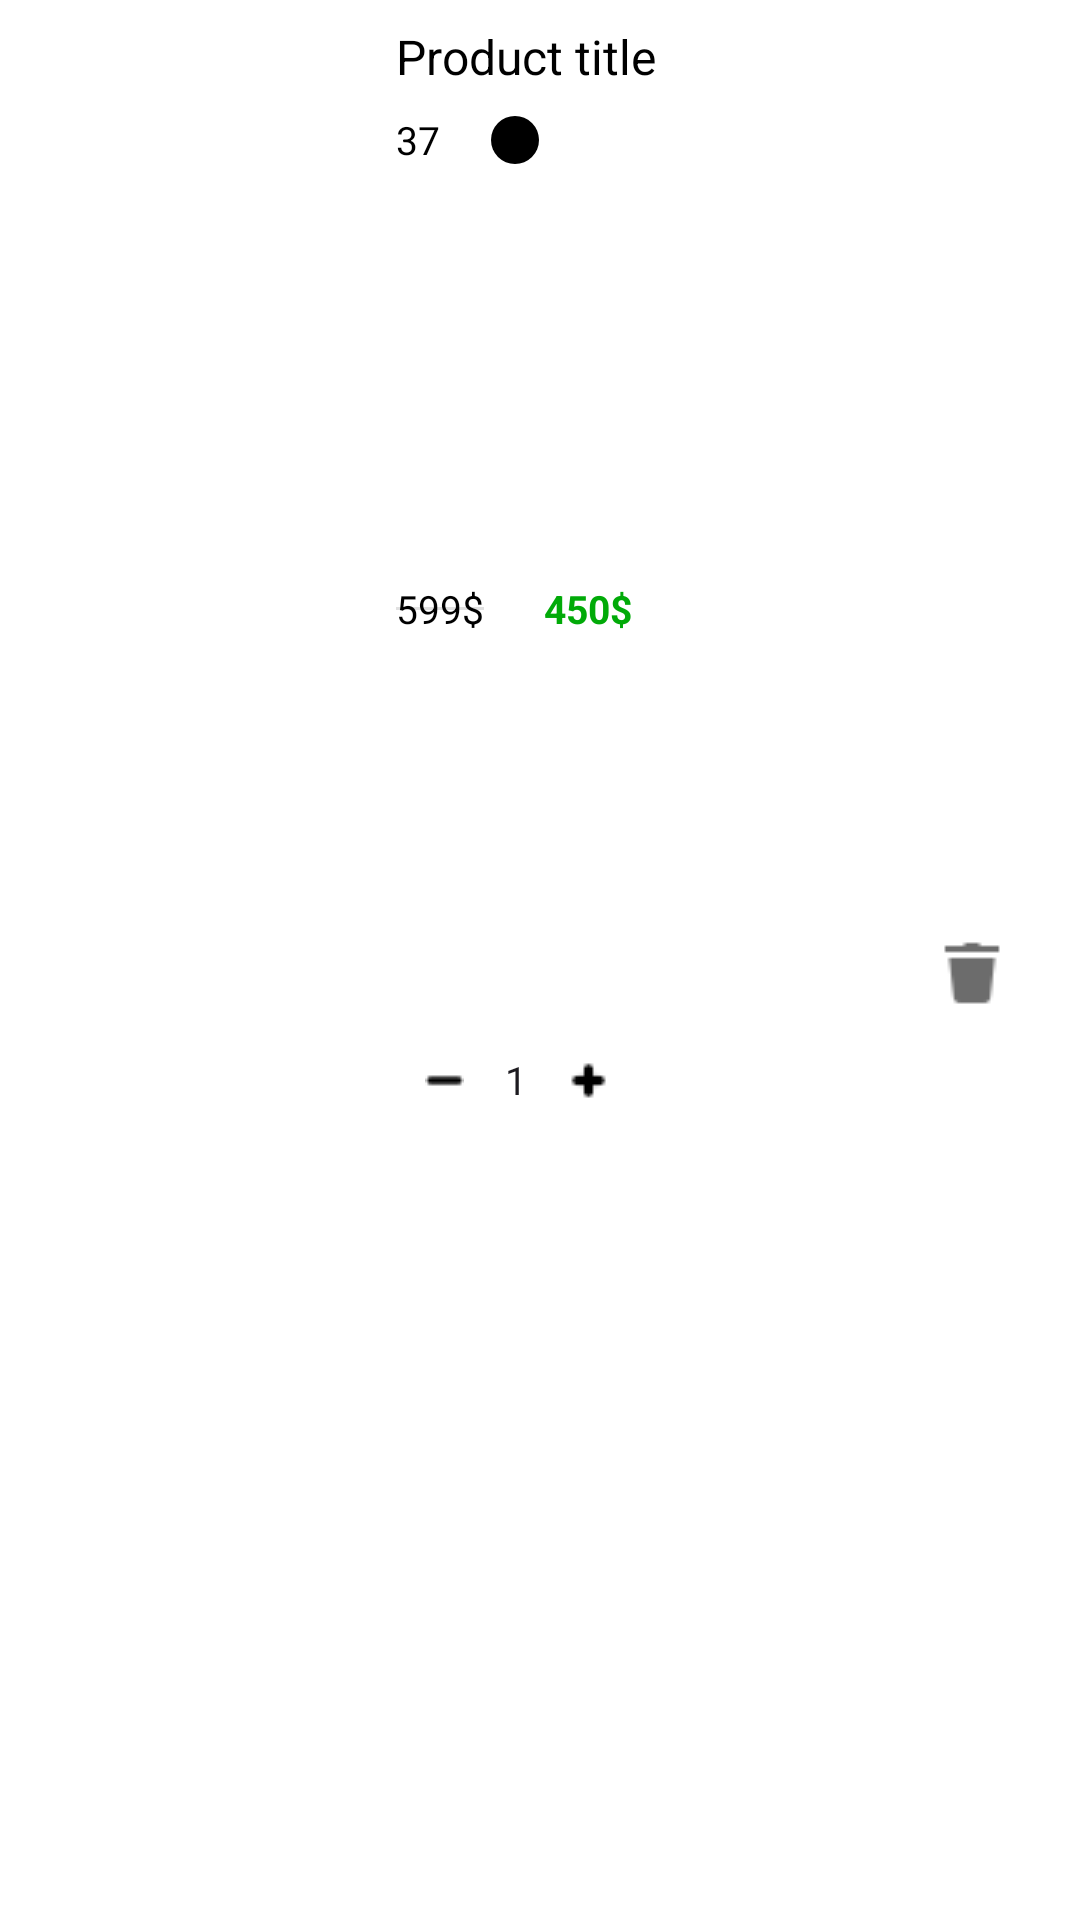

Icons on this 1080px x 1920px Android screen, each with the point to tap as point (x, y):
delete: point (972, 973)
minus: point (444, 1080)
plus: point (588, 1080)
